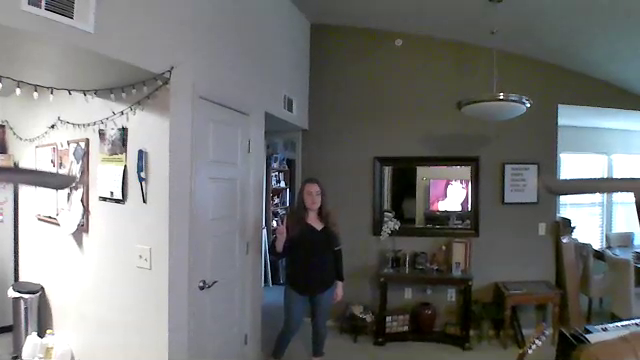peace: (270, 212, 291, 239)
